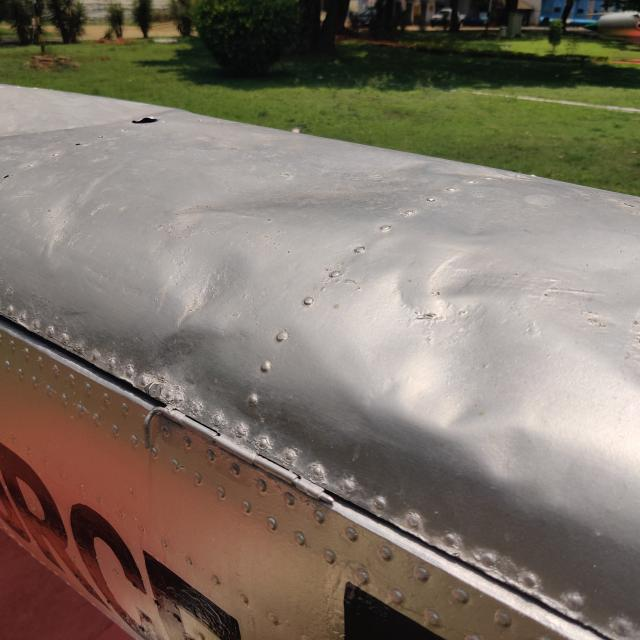dent: (335, 238, 550, 457), (160, 235, 261, 350), (468, 412, 569, 511)
